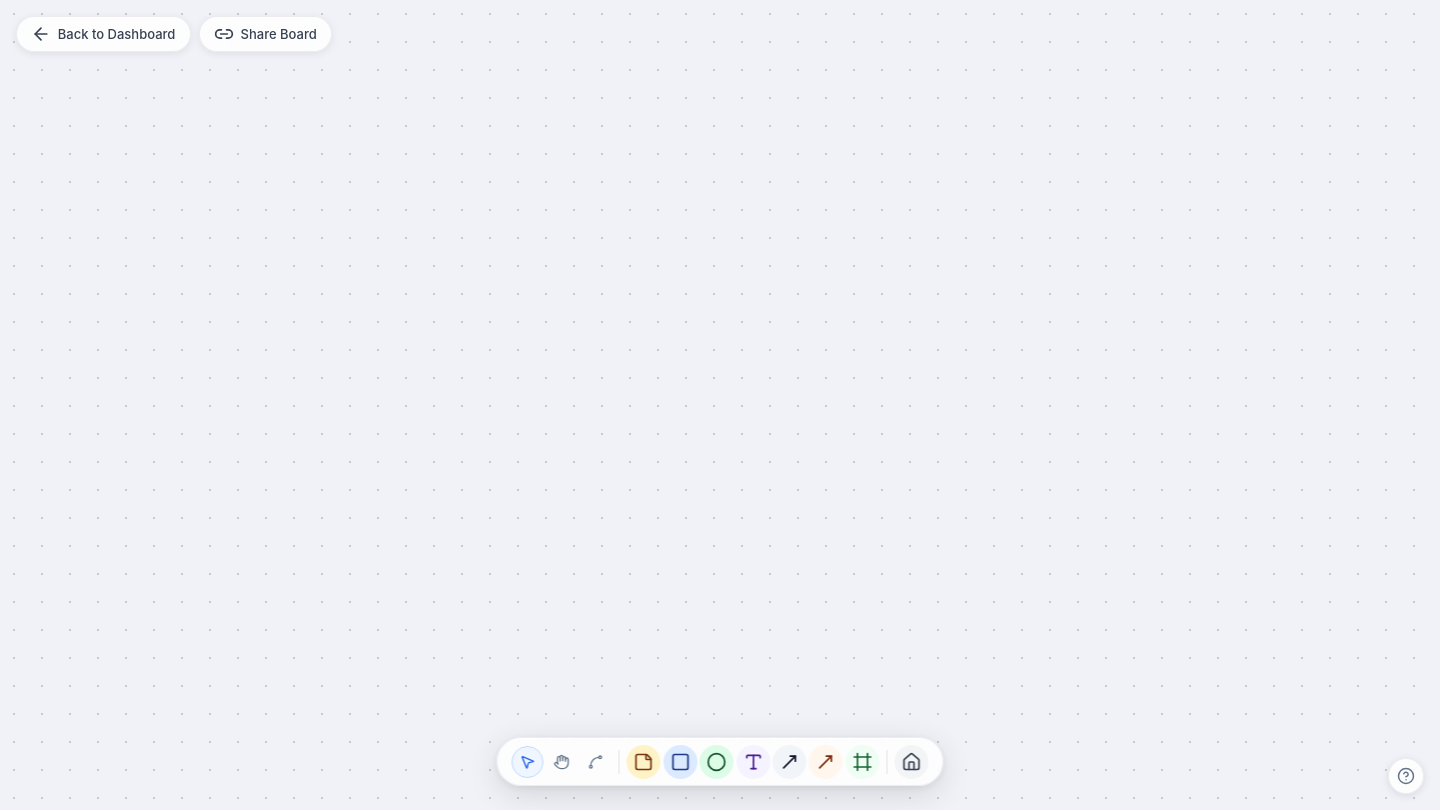
Scenario: Whiteboard — shape movement › deletes selected shape with Delete key
Click the button named "Sticky". click: [644, 762]
box: [627,745,661,779]
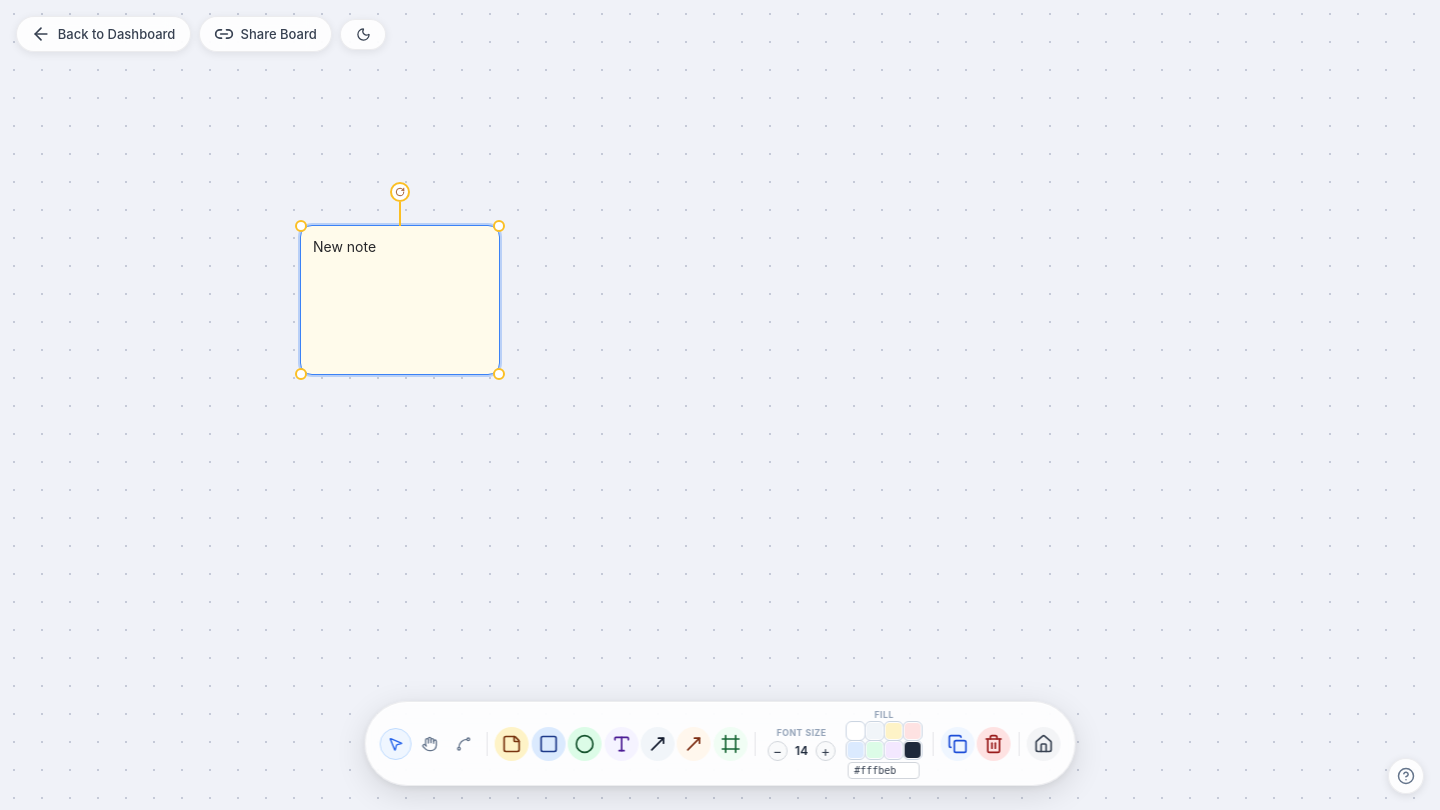
Result: the text "New note" is shown
Press the mouse on the text "New note" at [345, 246], box [313,238,376,255]
Press Delete
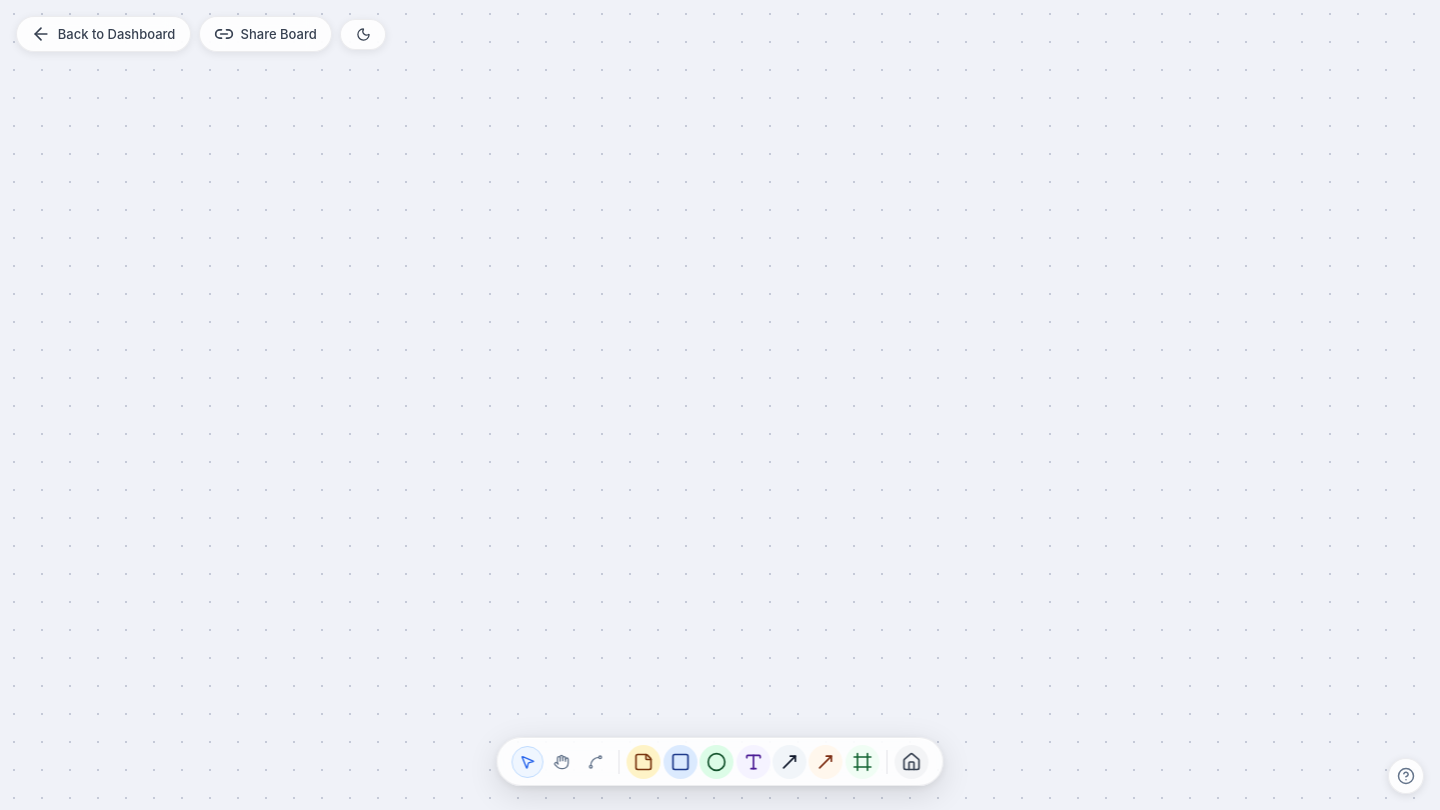
Result: the text "New note" is gone
